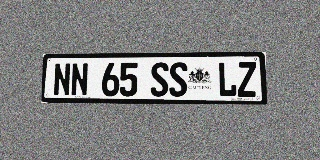5: (120, 62, 138, 96)
6: (102, 63, 120, 96)
L: (218, 62, 237, 97)
N: (53, 63, 71, 96), (71, 63, 88, 96)
S: (151, 62, 169, 97), (169, 62, 187, 97)
Z: (237, 62, 257, 97)
